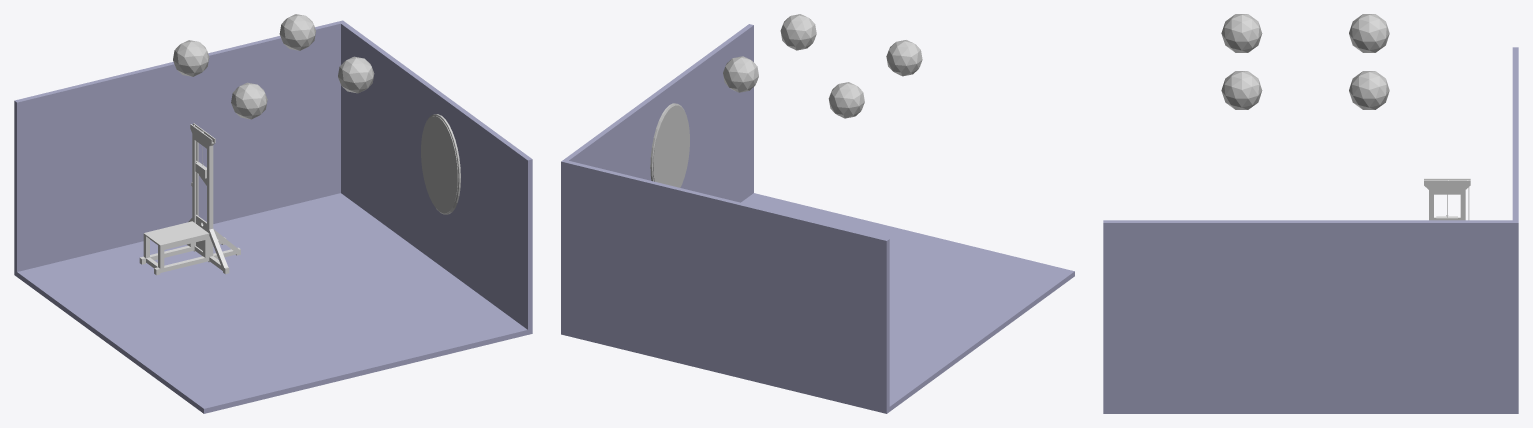
The model's file is museum.dae.
3 renders of one model, left to right at view 1: azimuth 30°, elevation 25°; view 2: azimuth 150°, elevation 25°; view 3: azimuth 270°, elevation 25°, orthographic. The views are drawn at different scales.
Parts seen in each view (by area): view 1: Plane, Guillotine, Circle_001, Icosphere_001, Icosphere, Icosphere_002, Icosphere_003; view 2: Plane, Circle_001, Icosphere_003, Icosphere, Icosphere_001, Icosphere_002; view 3: Plane, Icosphere, Icosphere_001, Icosphere_002, Icosphere_003, Guillotine.
Part boxes in pixels (left/top/right/bottom): Plane: left=14, top=20, right=532, bottom=413; Guillotine: left=139, top=123, right=240, bottom=275; Circle_001: left=421, top=116, right=458, bottom=213; Icosphere_001: left=173, top=40, right=209, bottom=76; Icosphere: left=279, top=14, right=315, bottom=50; Icosphere_002: left=231, top=82, right=267, bottom=119; Icosphere_003: left=338, top=56, right=374, bottom=93; Plane: left=561, top=24, right=1074, bottom=413; Circle_001: left=653, top=105, right=689, bottom=187; Icosphere_003: left=780, top=14, right=816, bottom=50; Icosphere: left=723, top=56, right=758, bottom=92; Icosphere_001: left=828, top=82, right=864, bottom=118; Icosphere_002: left=886, top=40, right=922, bottom=76; Plane: left=1103, top=47, right=1518, bottom=413; Icosphere: left=1349, top=71, right=1389, bottom=109; Icosphere_001: left=1349, top=14, right=1389, bottom=52; Icosphere_002: left=1221, top=14, right=1262, bottom=52; Icosphere_003: left=1221, top=71, right=1262, bottom=109; Guillotine: left=1424, top=178, right=1470, bottom=220.
Bounding box in the file's own units: 20.3 × 20.3 × 15.17.
